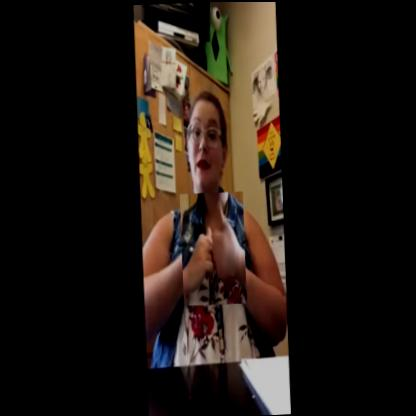HowAreYou: (178, 190, 249, 305)
